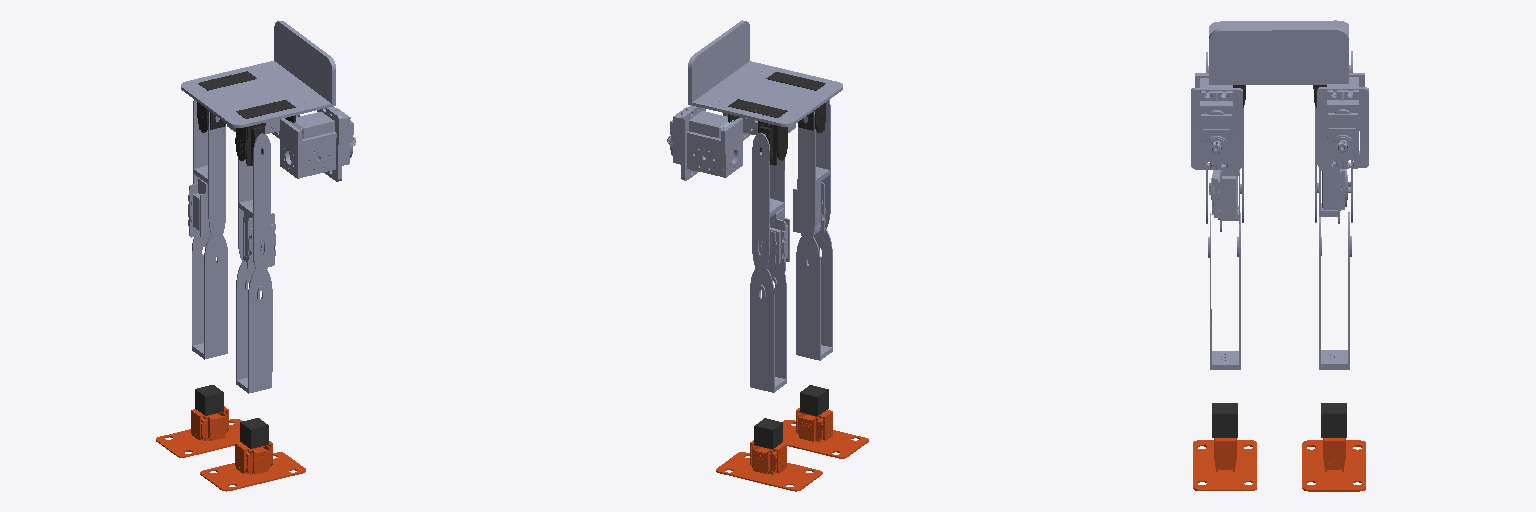
The robot description file, URDF, robot "biped_robot":
<?xml version="1.0"?>
<!--
  Biped robot for Gazebo Harmonic + ros2_control.

  Conventions: +x = forward, +y = left, +z = up.
  Joint axes: pitch (fore/aft) rotates about y, roll (sideways) rotates about x.

  Kinematic chain per leg:
    base_link -> (hip_roll) -> hip_link -> (hip_pitch) -> thigh
              -> (knee_pitch) -> shin     -> (ankle_pitch) -> ankle_link
              -> (ankle_roll) -> foot

  This is a proper tree (no loops, each link has exactly one parent joint).
-->
<robot name="biped_robot">

  <material name="light_gray"><color rgba="0.90 0.90 0.90 1"/></material>
  <material name="dark_gray"><color rgba="0.25 0.25 0.25 1"/></material>
  <material name="accent"><color rgba="0.85 0.35 0.15 1"/></material>
  <material name="payload_blue"><color rgba="0.15 0.45 0.85 1"/></material>
  <!-- Compensate for sdformat URDF-to-SDF color gain; matches STEP RGB. -->
  <material name="cad_blue_grey"><color rgba="0.633725 0.655686 0.746667 1"/></material>

  <!-- ============================ PELVIS ============================ -->
  <link name="base_link">
    <inertial>
      <origin xyz="0 0 0" rpy="0 0 0"/>
      <mass value="3.0"/>
      <inertia ixx="0.0205" ixy="0" ixz="0" iyy="0.0109" iyz="0" izz="0.0296"/>
    </inertial>
    <collision name="base_collision">
      <origin xyz="0 0 0" rpy="0 0 0"/>
      <geometry><box size="0.20 0.28 0.06"/></geometry>
    </collision>
    <visual name="base_visual">
      <origin xyz="0 0 0" rpy="0 0 0"/>
      <geometry><mesh filename="package://biped_gazebo_sim/meshes/cad/base_link.stl" scale="1.45 1.25 1"/></geometry>
      <material name="cad_blue_grey"/>
    </visual>

    <visual name="platform_cad_visual">
      <origin xyz="0 0 0.055" rpy="0 0 0"/>
      <geometry><mesh filename="package://biped_gazebo_sim/meshes/cad/platform_link.stl" scale="1 1 1"/></geometry>
      <material name="cad_blue_grey"/>
    </visual>
  </link>

  <!-- ====================== PAYLOAD (1 kg on top) ==================== -->
  <!-- Extra mass carried on top of the pelvis. Its mass and position are
       mirrored by the balance controller (payload_mass/payload_x/y/z) so the
       ZMP/LIPM plan and the CoM offsets account for it. -->
  <link name="payload">
    <inertial>
      <origin xyz="0 0 0" rpy="0 0 0"/>
      <mass value="1.0"/>
      <inertia ixx="0.000967" ixy="0" ixz="0" iyy="0.000967" iyz="0" izz="0.001667"/>
    </inertial>
    <collision name="payload_collision">
      <origin xyz="0 0 0" rpy="0 0 0"/>
      <geometry><box size="0.10 0.10 0.04"/></geometry>
    </collision>
    <!-- The STEP model has no payload part; the 1 kg collision and inertia remain. -->
  </link>

  <joint name="payload_joint" type="fixed">
    <parent link="base_link"/>
    <child link="payload"/>
    <origin xyz="0 0 0.05" rpy="0 0 0"/>
  </joint>

  <!-- ========================== LEFT LEG =========================== -->
  <link name="left_hip_link">
    <inertial>
      <origin xyz="0 0 0" rpy="0 0 0"/>
      <mass value="0.10"/>
      <inertia ixx="0.00006" ixy="0" ixz="0" iyy="0.00006" iyz="0" izz="0.00006"/>
    </inertial>
    <collision name="left_hip_collision">
      <origin xyz="0 0 0" rpy="0 0 0"/>
      <geometry><box size="0.06 0.06 0.06"/></geometry>
    </collision>
    <visual name="left_hip_visual">
      <origin xyz="0 0 0" rpy="0 0 0"/>
      <geometry><mesh filename="package://biped_gazebo_sim/meshes/cad/left_hip_pitch_link.stl" scale="0.60 0.62 0.65"/></geometry>
      <material name="dark_gray"/>
    </visual>
  </link>

  <joint name="left_hip_roll" type="revolute">
    <parent link="base_link"/>
    <child link="left_hip_link"/>
    <origin xyz="0 0.085 -0.02" rpy="0 0 0"/>
    <axis xyz="1 0 0"/>
    <limit lower="-0.6" upper="0.6" effort="60" velocity="4.0"/>
    <dynamics damping="1.0" friction="0.0"/>
  </joint>

  <link name="left_thigh">
    <inertial>
      <origin xyz="0 0 -0.15" rpy="0 0 0"/>
      <mass value="0.8"/>
      <inertia ixx="0.00624" ixy="0" ixz="0" iyy="0.00624" iyz="0" izz="0.00048"/>
    </inertial>
    <collision name="left_thigh_collision">
      <origin xyz="0 0 -0.15" rpy="0 0 0"/>
      <geometry><box size="0.06 0.06 0.30"/></geometry>
    </collision>
    <visual name="left_thigh_visual">
      <origin xyz="0 0 0" rpy="0 0 0"/>
      <geometry><mesh filename="package://biped_gazebo_sim/meshes/cad/left_thigh.stl" scale="0.53 0.50 1"/></geometry>
      <material name="cad_blue_grey"/>
    </visual>
  </link>

  <joint name="left_hip_pitch" type="revolute">
    <parent link="left_hip_link"/>
    <child link="left_thigh"/>
    <origin xyz="0 0 0" rpy="0 0 0"/>
    <axis xyz="0 1 0"/>
    <limit lower="-1.2" upper="1.2" effort="80" velocity="5.0"/>
    <dynamics damping="1.5" friction="0.0"/>
  </joint>

  <link name="left_shin">
    <inertial>
      <origin xyz="0 0 -0.15" rpy="0 0 0"/>
      <mass value="0.4"/>
      <inertia ixx="0.00308" ixy="0" ixz="0" iyy="0.00308" iyz="0" izz="0.00017"/>
    </inertial>
    <collision name="left_shin_collision">
      <origin xyz="0 0 -0.15" rpy="0 0 0"/>
      <geometry><box size="0.05 0.05 0.30"/></geometry>
    </collision>
    <visual name="left_shin_visual">
      <origin xyz="0 0 0" rpy="0 0 0"/>
      <geometry><mesh filename="package://biped_gazebo_sim/meshes/cad/left_shin.stl" scale="0.74 0.45 1"/></geometry>
      <material name="cad_blue_grey"/>
    </visual>
  </link>

  <joint name="left_knee_pitch" type="revolute">
    <parent link="left_thigh"/>
    <child link="left_shin"/>
    <origin xyz="0 0 -0.30" rpy="0 0 0"/>
    <axis xyz="0 1 0"/>
    <limit lower="-0.05" upper="1.8" effort="80" velocity="5.0"/>
    <dynamics damping="1.5" friction="0.0"/>
  </joint>

  <link name="left_ankle_link">
    <inertial>
      <origin xyz="0 0 0" rpy="0 0 0"/>
      <mass value="0.05"/>
      <inertia ixx="0.000013" ixy="0" ixz="0" iyy="0.000013" iyz="0" izz="0.000013"/>
    </inertial>
    <collision name="left_ankle_collision">
      <origin xyz="0 0 0" rpy="0 0 0"/>
      <geometry><box size="0.04 0.04 0.04"/></geometry>
    </collision>
    <visual name="left_ankle_visual">
      <origin xyz="0 0 0" rpy="0 0 0"/>
      <geometry><box size="0.04 0.04 0.04"/></geometry>
      <material name="dark_gray"/>
    </visual>
  </link>

  <joint name="left_ankle_pitch" type="revolute">
    <parent link="left_shin"/>
    <child link="left_ankle_link"/>
    <origin xyz="0 0 -0.30" rpy="0 0 0"/>
    <axis xyz="0 1 0"/>
    <limit lower="-1.2" upper="1.2" effort="40" velocity="4.0"/>
    <dynamics damping="1.0" friction="0.0"/>
  </joint>

  <link name="left_foot">
    <inertial>
      <origin xyz="0 0 -0.02" rpy="0 0 0"/>
      <mass value="0.3"/>
      <inertia ixx="0.00024" ixy="0" ixz="0" iyy="0.00085" iyz="0" izz="0.00101"/>
    </inertial>
    <collision name="left_foot_collision">
      <origin xyz="0 0 -0.02" rpy="0 0 0"/>
      <geometry><box size="0.18 0.10 0.04"/></geometry>
    </collision>
    <visual name="left_foot_visual">
      <origin xyz="0 0 0" rpy="0 0 0"/>
      <geometry><mesh filename="package://biped_gazebo_sim/meshes/cad/left_foot.stl" scale="0.59 0.55 0.40"/></geometry>
      <material name="accent"/>
    </visual>
  </link>

  <joint name="left_ankle_roll" type="revolute">
    <parent link="left_ankle_link"/>
    <child link="left_foot"/>
    <origin xyz="0 0 -0.02" rpy="0 0 0"/>
    <axis xyz="1 0 0"/>
    <limit lower="-0.5" upper="0.5" effort="40" velocity="4.0"/>
    <dynamics damping="1.0" friction="0.0"/>
  </joint>

  <!-- ========================== RIGHT LEG ========================== -->
  <link name="right_hip_link">
    <inertial>
      <origin xyz="0 0 0" rpy="0 0 0"/>
      <mass value="0.10"/>
      <inertia ixx="0.00006" ixy="0" ixz="0" iyy="0.00006" iyz="0" izz="0.00006"/>
    </inertial>
    <collision name="right_hip_collision">
      <origin xyz="0 0 0" rpy="0 0 0"/>
      <geometry><box size="0.06 0.06 0.06"/></geometry>
    </collision>
    <visual name="right_hip_visual">
      <origin xyz="0 0 0" rpy="0 0 0"/>
      <geometry><mesh filename="package://biped_gazebo_sim/meshes/cad/right_hip_pitch_link.stl" scale="0.60 0.62 0.65"/></geometry>
      <material name="dark_gray"/>
    </visual>
  </link>

  <joint name="right_hip_roll" type="revolute">
    <parent link="base_link"/>
    <child link="right_hip_link"/>
    <origin xyz="0 -0.085 -0.02" rpy="0 0 0"/>
    <axis xyz="1 0 0"/>
    <limit lower="-0.6" upper="0.6" effort="60" velocity="4.0"/>
    <dynamics damping="1.0" friction="0.0"/>
  </joint>

  <link name="right_thigh">
    <inertial>
      <origin xyz="0 0 -0.15" rpy="0 0 0"/>
      <mass value="0.8"/>
      <inertia ixx="0.00624" ixy="0" ixz="0" iyy="0.00624" iyz="0" izz="0.00048"/>
    </inertial>
    <collision name="right_thigh_collision">
      <origin xyz="0 0 -0.15" rpy="0 0 0"/>
      <geometry><box size="0.06 0.06 0.30"/></geometry>
    </collision>
    <visual name="right_thigh_visual">
      <origin xyz="0 0 0" rpy="0 0 0"/>
      <geometry><mesh filename="package://biped_gazebo_sim/meshes/cad/right_thigh.stl" scale="0.53 0.50 1"/></geometry>
      <material name="cad_blue_grey"/>
    </visual>
  </link>

  <joint name="right_hip_pitch" type="revolute">
    <parent link="right_hip_link"/>
    <child link="right_thigh"/>
    <origin xyz="0 0 0" rpy="0 0 0"/>
    <axis xyz="0 1 0"/>
    <limit lower="-1.2" upper="1.2" effort="80" velocity="5.0"/>
    <dynamics damping="1.5" friction="0.0"/>
  </joint>

  <link name="right_shin">
    <inertial>
      <origin xyz="0 0 -0.15" rpy="0 0 0"/>
      <mass value="0.4"/>
      <inertia ixx="0.00308" ixy="0" ixz="0" iyy="0.00308" iyz="0" izz="0.00017"/>
    </inertial>
    <collision name="right_shin_collision">
      <origin xyz="0 0 -0.15" rpy="0 0 0"/>
      <geometry><box size="0.05 0.05 0.30"/></geometry>
    </collision>
    <visual name="right_shin_visual">
      <origin xyz="0 0 0" rpy="0 0 0"/>
      <geometry><mesh filename="package://biped_gazebo_sim/meshes/cad/right_shin.stl" scale="0.74 0.45 1"/></geometry>
      <material name="cad_blue_grey"/>
    </visual>
  </link>

  <joint name="right_knee_pitch" type="revolute">
    <parent link="right_thigh"/>
    <child link="right_shin"/>
    <origin xyz="0 0 -0.30" rpy="0 0 0"/>
    <axis xyz="0 1 0"/>
    <limit lower="-0.05" upper="1.8" effort="80" velocity="5.0"/>
    <dynamics damping="1.5" friction="0.0"/>
  </joint>

  <link name="right_ankle_link">
    <inertial>
      <origin xyz="0 0 0" rpy="0 0 0"/>
      <mass value="0.05"/>
      <inertia ixx="0.000013" ixy="0" ixz="0" iyy="0.000013" iyz="0" izz="0.000013"/>
    </inertial>
    <collision name="right_ankle_collision">
      <origin xyz="0 0 0" rpy="0 0 0"/>
      <geometry><box size="0.04 0.04 0.04"/></geometry>
    </collision>
    <visual name="right_ankle_visual">
      <origin xyz="0 0 0" rpy="0 0 0"/>
      <geometry><box size="0.04 0.04 0.04"/></geometry>
      <material name="dark_gray"/>
    </visual>
  </link>

  <joint name="right_ankle_pitch" type="revolute">
    <parent link="right_shin"/>
    <child link="right_ankle_link"/>
    <origin xyz="0 0 -0.30" rpy="0 0 0"/>
    <axis xyz="0 1 0"/>
    <limit lower="-1.2" upper="1.2" effort="40" velocity="4.0"/>
    <dynamics damping="1.0" friction="0.0"/>
  </joint>

  <link name="right_foot">
    <inertial>
      <origin xyz="0 0 -0.02" rpy="0 0 0"/>
      <mass value="0.3"/>
      <inertia ixx="0.00024" ixy="0" ixz="0" iyy="0.00085" iyz="0" izz="0.00101"/>
    </inertial>
    <collision name="right_foot_collision">
      <origin xyz="0 0 -0.02" rpy="0 0 0"/>
      <geometry><box size="0.18 0.10 0.04"/></geometry>
    </collision>
    <visual name="right_foot_visual">
      <origin xyz="0 0 0" rpy="0 0 0"/>
      <geometry><mesh filename="package://biped_gazebo_sim/meshes/cad/right_foot.stl" scale="0.59 0.55 0.40"/></geometry>
      <material name="accent"/>
    </visual>
  </link>

  <joint name="right_ankle_roll" type="revolute">
    <parent link="right_ankle_link"/>
    <child link="right_foot"/>
    <origin xyz="0 0 -0.02" rpy="0 0 0"/>
    <axis xyz="1 0 0"/>
    <limit lower="-0.5" upper="0.5" effort="40" velocity="4.0"/>
    <dynamics damping="1.0" friction="0.0"/>
  </joint>

  <!-- ===================== ros2_control (Gazebo) ===================== -->
  <ros2_control name="BipedGazeboSystem" type="system">
    <hardware>
      <plugin>gz_ros2_control/GazeboSimSystem</plugin>
    </hardware>
    <joint name="left_hip_roll">
      <command_interface name="position"/>
      <state_interface name="position"/>
      <state_interface name="velocity"/>
    </joint>
    <joint name="right_hip_roll">
      <command_interface name="position"/>
      <state_interface name="position"/>
      <state_interface name="velocity"/>
    </joint>
    <joint name="left_hip_pitch">
      <command_interface name="position"/>
      <state_interface name="position"/>
      <state_interface name="velocity"/>
    </joint>
    <joint name="right_hip_pitch">
      <command_interface name="position"/>
      <state_interface name="position"/>
      <state_interface name="velocity"/>
    </joint>
    <joint name="left_knee_pitch">
      <command_interface name="position"/>
      <state_interface name="position"/>
      <state_interface name="velocity"/>
    </joint>
    <joint name="right_knee_pitch">
      <command_interface name="position"/>
      <state_interface name="position"/>
      <state_interface name="velocity"/>
    </joint>
    <joint name="left_ankle_pitch">
      <command_interface name="position"/>
      <state_interface name="position"/>
      <state_interface name="velocity"/>
    </joint>
    <joint name="right_ankle_pitch">
      <command_interface name="position"/>
      <state_interface name="position"/>
      <state_interface name="velocity"/>
    </joint>
    <joint name="left_ankle_roll">
      <command_interface name="position"/>
      <state_interface name="position"/>
      <state_interface name="velocity"/>
    </joint>
    <joint name="right_ankle_roll">
      <command_interface name="position"/>
      <state_interface name="position"/>
      <state_interface name="velocity"/>
    </joint>
  </ros2_control>

  <!-- High friction on the feet so the robot does not slip while walking. -->
  <gazebo reference="left_foot">
    <mu1>5.0</mu1>
    <mu2>5.0</mu2>
    <kp>10000000.0</kp>
    <kd>1000.0</kd>
    <minDepth>0.001</minDepth>
    <maxVel>0.01</maxVel>
  </gazebo>
  <gazebo reference="right_foot">
    <mu1>5.0</mu1>
    <mu2>5.0</mu2>
    <kp>10000000.0</kp>
    <kd>1000.0</kd>
    <minDepth>0.001</minDepth>
    <maxVel>0.01</maxVel>
  </gazebo>

  <!-- gz_ros2_control plugin: hosts the controller_manager inside Gazebo. -->
  <gazebo>
    <plugin filename="gz_ros2_control-system" name="gz_ros2_control::GazeboSimROS2ControlPlugin">
      <parameters>@CONTROLLER_CONFIG@</parameters>
    </plugin>
  </gazebo>

  <!-- Publishes the base pose/velocity so the balance controller can keep
       the robot upright while walking. -->
  <gazebo>
    <plugin filename="gz-sim-odometry-publisher-system" name="gz::sim::systems::OdometryPublisher">
      <odom_frame>world</odom_frame>
      <robot_base_frame>base_link</robot_base_frame>
      <odom_publish_frequency>100</odom_publish_frequency>
      <dimensions>3</dimensions>
    </plugin>
  </gazebo>

</robot>

--- What the picture shows (computed from the rendered views, not written in the file) ---
The picture shows the robot from 3 angles, left to right: view 1: azimuth 30°, elevation 25°; view 2: azimuth 150°, elevation 25°; view 3: azimuth 270°, elevation 25°; orthographic projection.
Model biped_robot with 12 links and 11 joints (10 revolute, 1 fixed), rooted at base_link, posed every joint at zero.
Links seen in each view (by area): view 1: base_link, right_shin, left_shin, right_thigh, left_thigh, right_foot, left_foot, right_hip_link, left_hip_link, left_ankle_link, right_ankle_link; view 2: base_link, right_shin, left_shin, left_thigh, right_thigh, left_foot, right_foot, left_hip_link, right_hip_link, right_ankle_link, left_ankle_link; view 3: base_link, left_foot, right_foot, right_thigh, left_thigh, left_shin, right_shin, left_ankle_link, right_ankle_link.
Link boxes in pixels (left/top/right/bottom): base_link: left=181, top=21, right=355, bottom=181; right_shin: left=236, top=260, right=272, bottom=393; left_shin: left=192, top=235, right=227, bottom=359; right_thigh: left=238, top=133, right=275, bottom=275; left_thigh: left=188, top=100, right=225, bottom=240; right_foot: left=200, top=441, right=305, bottom=491; left_foot: left=156, top=406, right=241, bottom=457; right_hip_link: left=235, top=100, right=295, bottom=165; left_hip_link: left=197, top=71, right=256, bottom=132; left_ankle_link: left=195, top=385, right=223, bottom=415; right_ankle_link: left=240, top=418, right=268, bottom=448; base_link: left=667, top=20, right=842, bottom=180; right_shin: left=796, top=228, right=832, bottom=360; left_shin: left=750, top=268, right=786, bottom=392; left_thigh: left=752, top=133, right=789, bottom=274; right_thigh: left=793, top=100, right=830, bottom=242; left_foot: left=716, top=440, right=822, bottom=491; right_foot: left=783, top=408, right=868, bottom=458; left_hip_link: left=728, top=99, right=787, bottom=165; right_hip_link: left=766, top=72, right=825, bottom=132; right_ankle_link: left=800, top=385, right=828, bottom=415; left_ankle_link: left=754, top=418, right=782, bottom=448; base_link: left=1191, top=20, right=1368, bottom=169; left_foot: left=1302, top=438, right=1365, bottom=491; right_foot: left=1193, top=438, right=1256, bottom=490; right_thigh: left=1206, top=52, right=1243, bottom=231; left_thigh: left=1315, top=51, right=1352, bottom=223; left_shin: left=1319, top=212, right=1351, bottom=369; right_shin: left=1208, top=213, right=1240, bottom=369; left_ankle_link: left=1321, top=403, right=1346, bottom=437; right_ankle_link: left=1212, top=403, right=1237, bottom=437.
Bounding box of the posed robot: 0.3038 × 0.2791 × 0.8291 m (x, y, z).
Meshes: 10 distinct files referenced, 10 mesh visuals loaded (10 binary STL).
